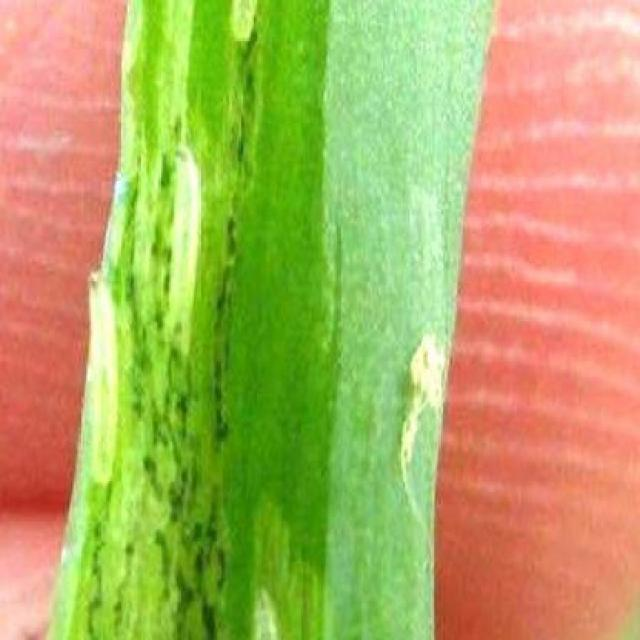whorl-maggot: (163, 124, 209, 358), (86, 263, 126, 486)
